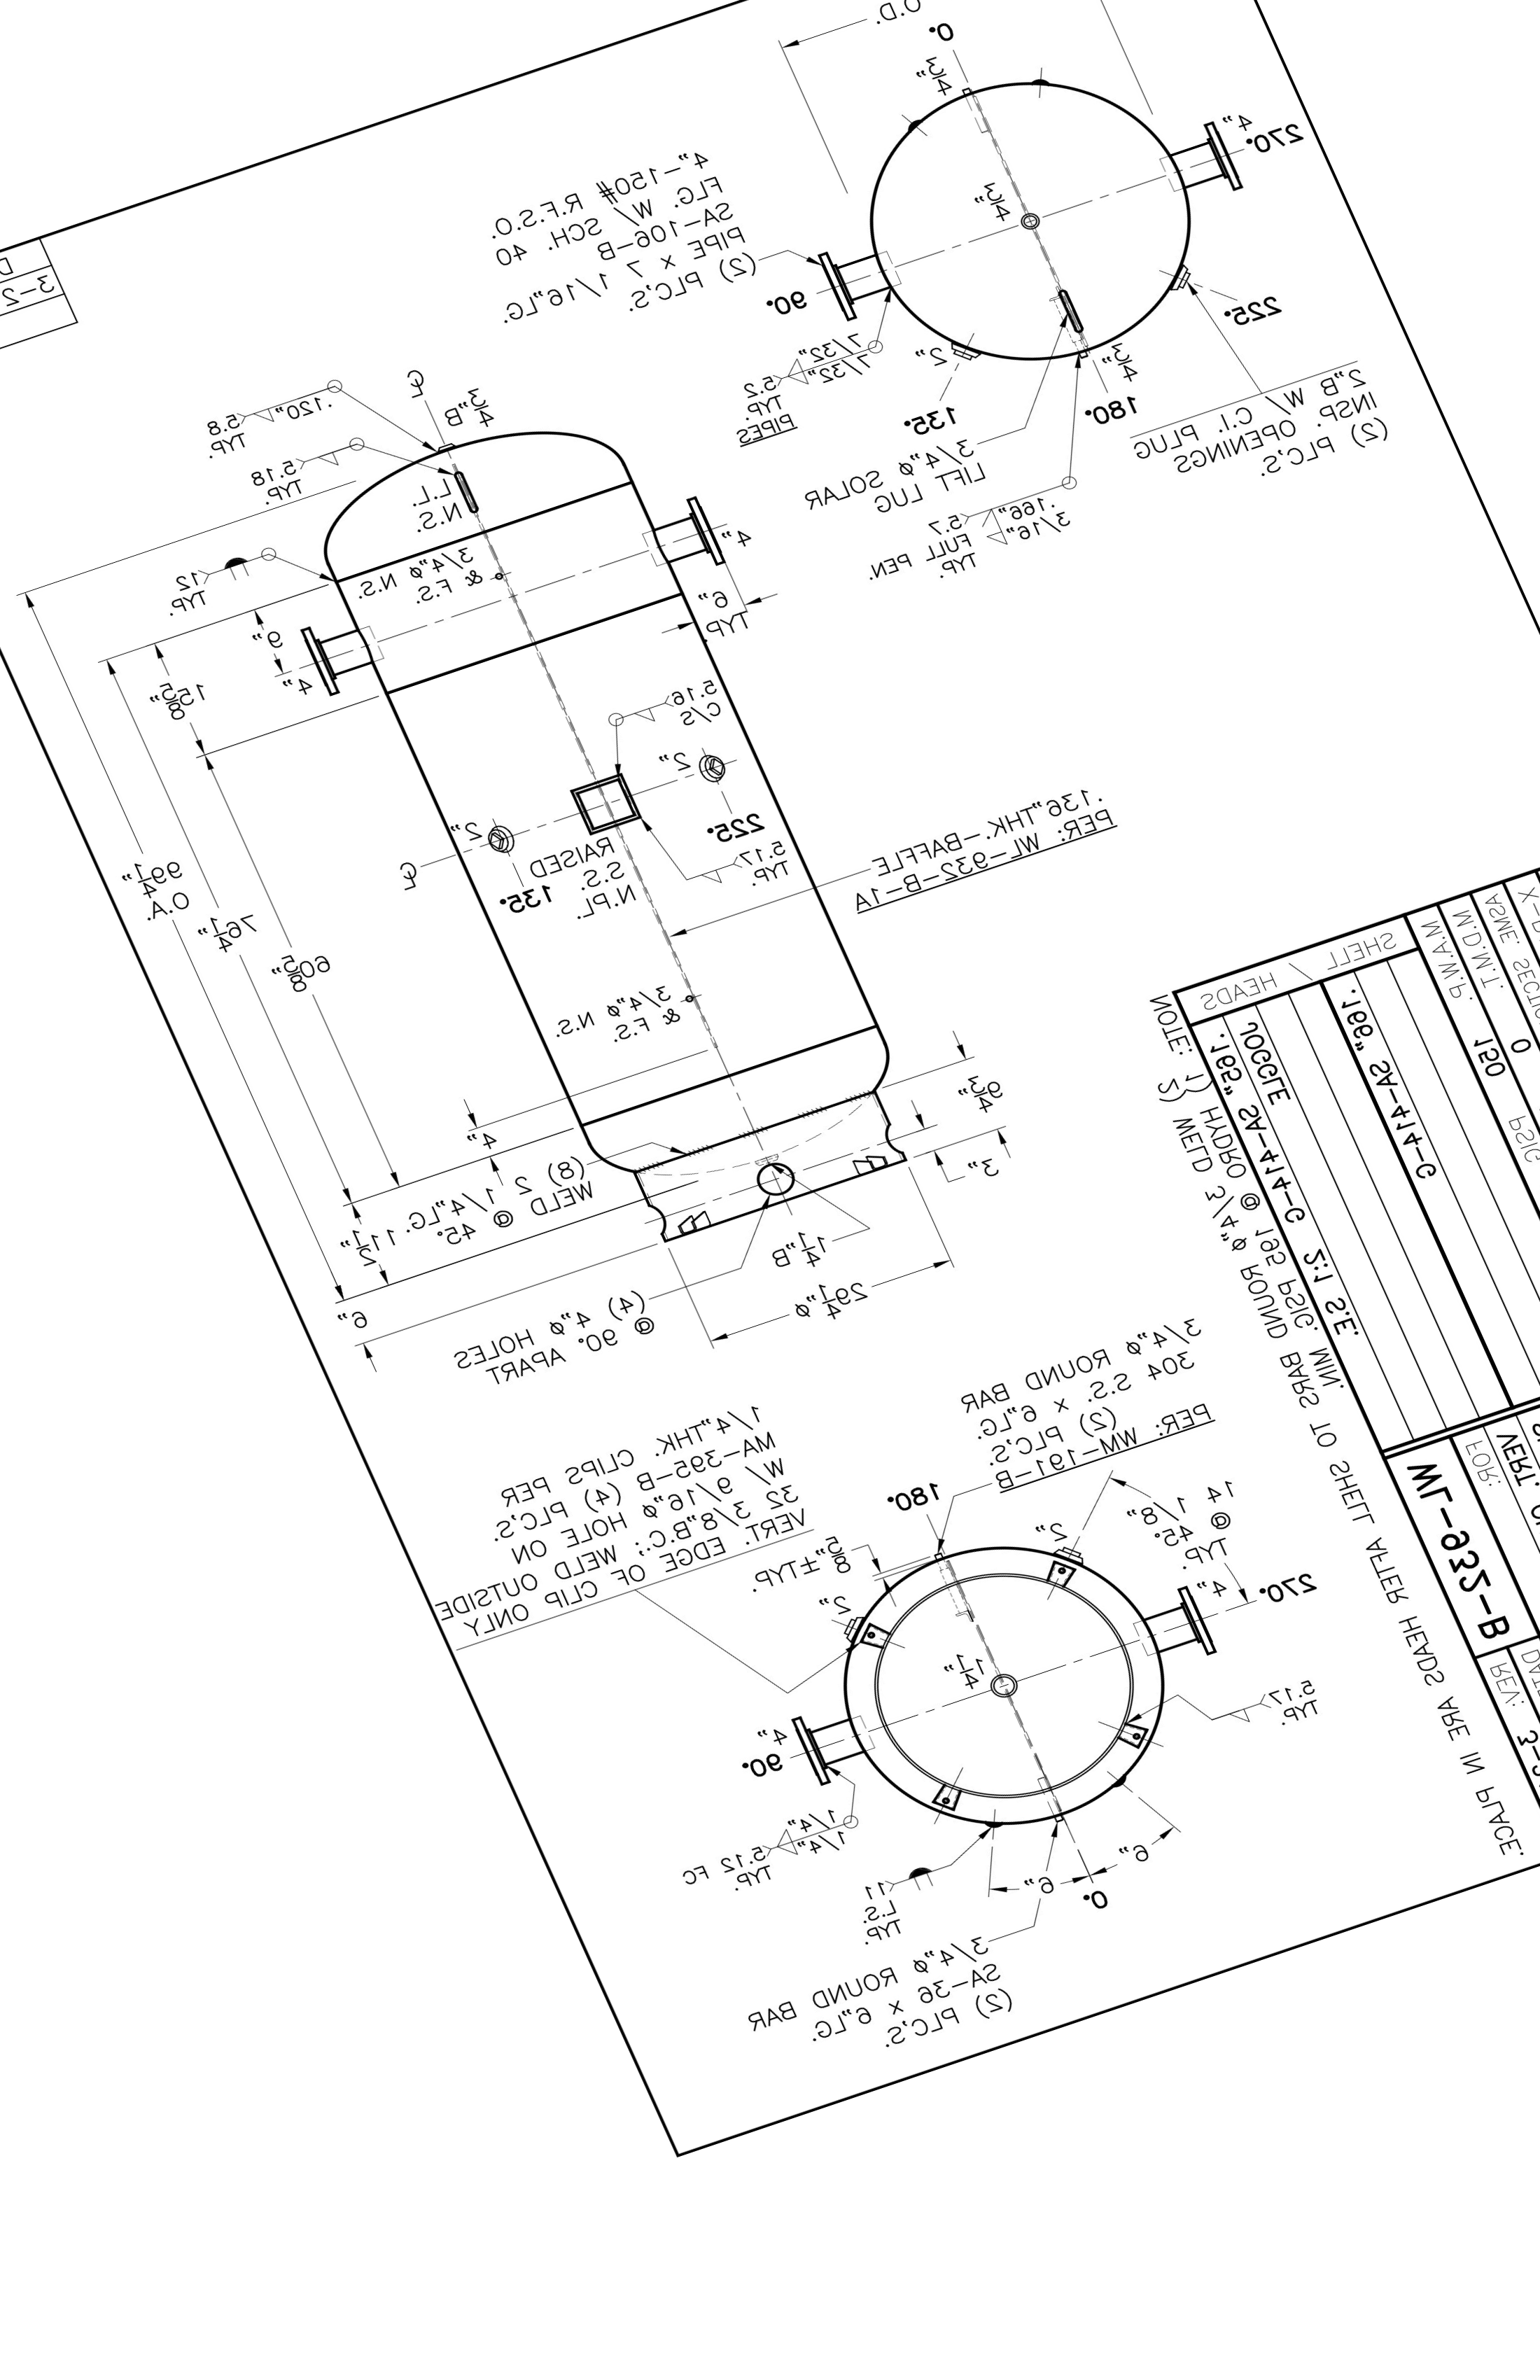Nozzle: (791, 205, 935, 349), (257, 593, 385, 713), (770, 1691, 898, 1808), (614, 493, 749, 597), (1146, 120, 1275, 229), (1126, 1599, 1256, 1683)
